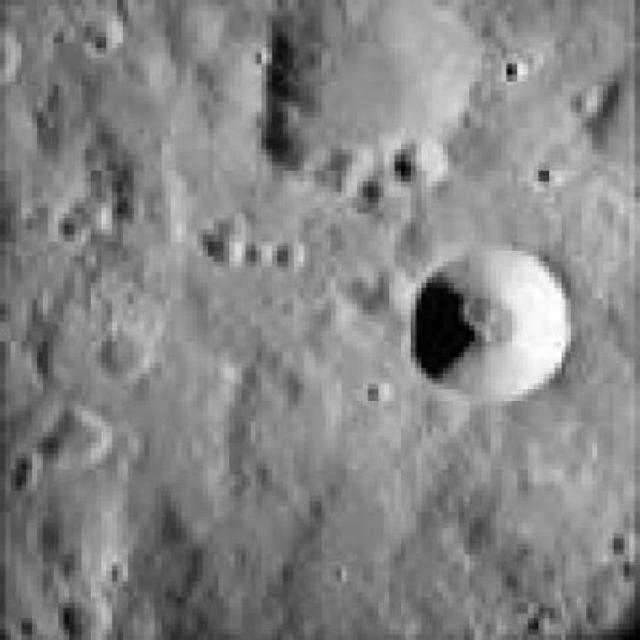crater: (409, 242, 573, 402)
